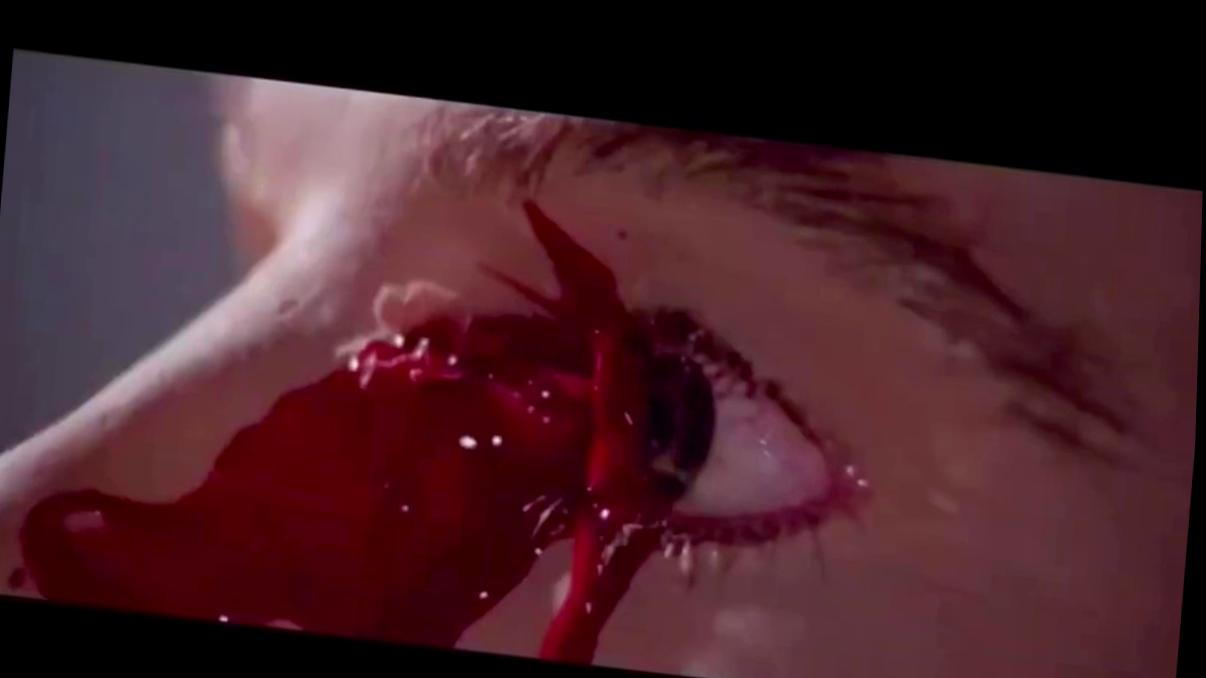Fire: (23, 194, 685, 654)
